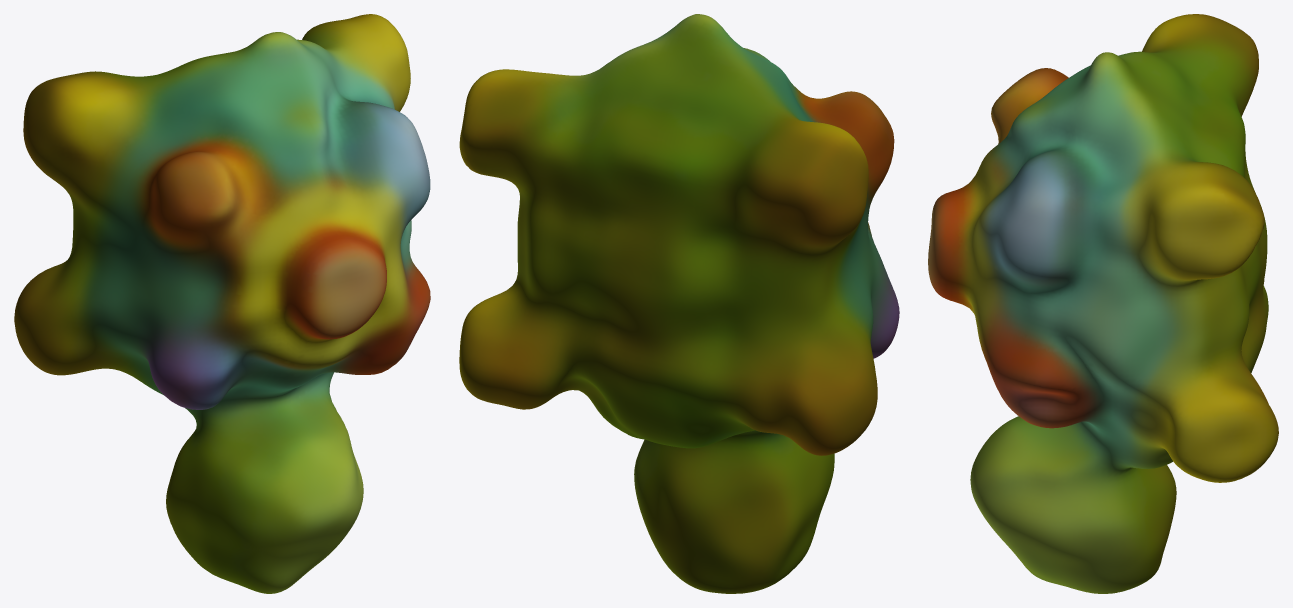
File: turtle.glb
The picture shows the model from 3 angles, left to right: view 1: azimuth 30°, elevation 25°; view 2: azimuth 150°, elevation 25°; view 3: azimuth 270°, elevation 25°; orthographic projection. The views are drawn at different scales.
Size of the model in its own units: 0.7297 by 0.9994 by 0.5897.
